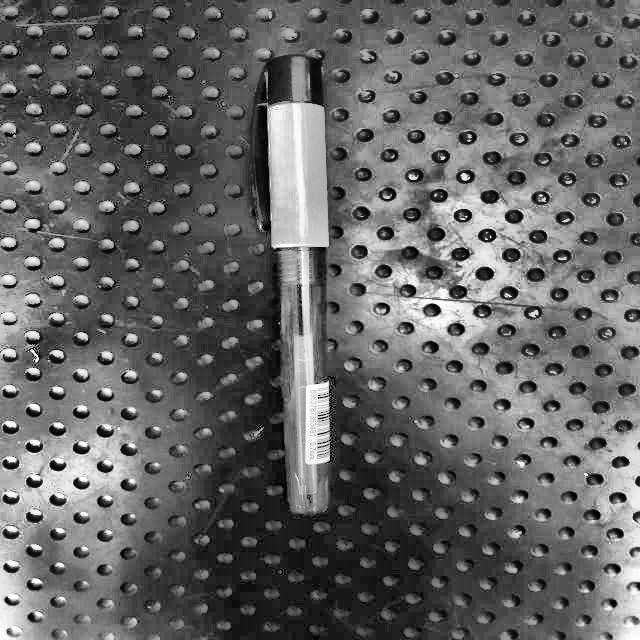Pen: (232, 29, 376, 530)
